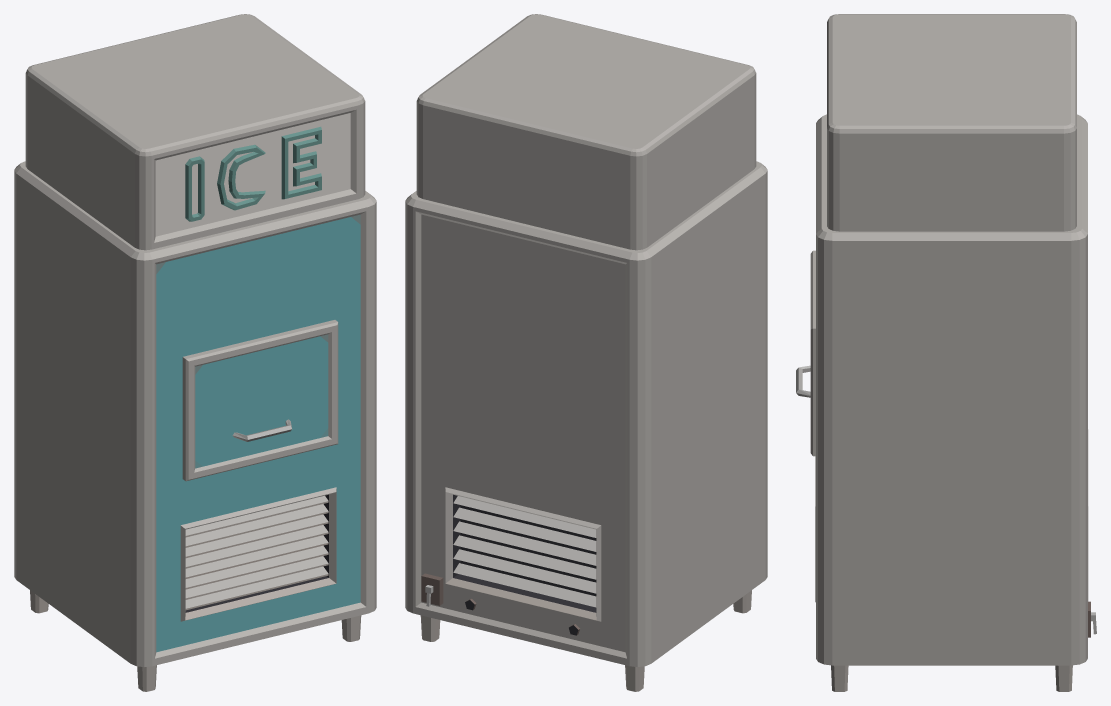
File: motel-ice-machine-e691e8.glb
The picture shows the model from 3 angles, left to right: view 1: azimuth 30°, elevation 25°; view 2: azimuth 150°, elevation 25°; view 3: azimuth 270°, elevation 25°; orthographic projection. The views are drawn at different scales.
Parts seen in each view (by area): view 1: cabinet, bin-door-leaf; view 2: cabinet; view 3: cabinet, bin-door-leaf.
Boxes of the visible parts, bbox=[...] form: cabinet: bbox=[14, 14, 376, 691]; bin-door-leaf: bbox=[182, 320, 338, 481]; cabinet: bbox=[405, 14, 767, 691]; cabinet: bbox=[815, 14, 1096, 691]; bin-door-leaf: bbox=[796, 250, 815, 456].
Size of the model in its own units: 0.8 by 1.7 by 0.8181.
